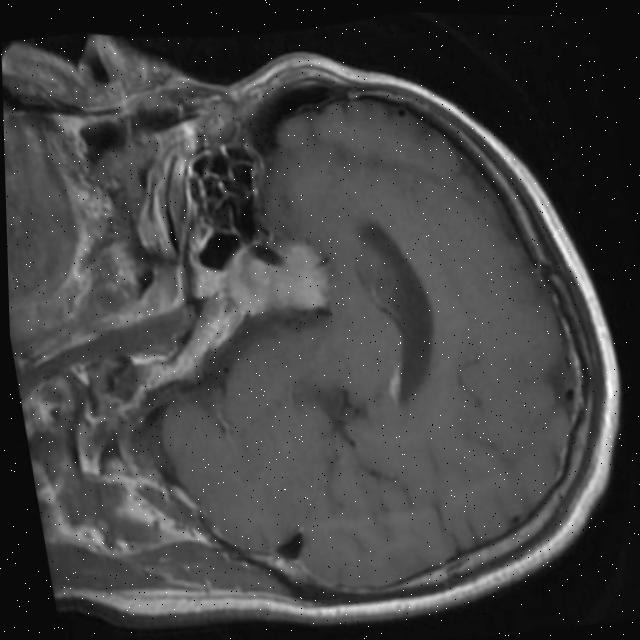Pituitary: (225, 233, 336, 321)
